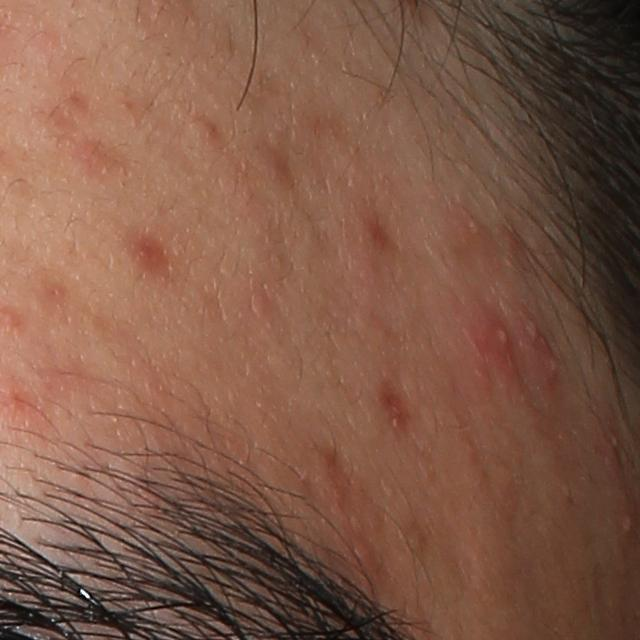papule: (188, 116, 220, 143)
